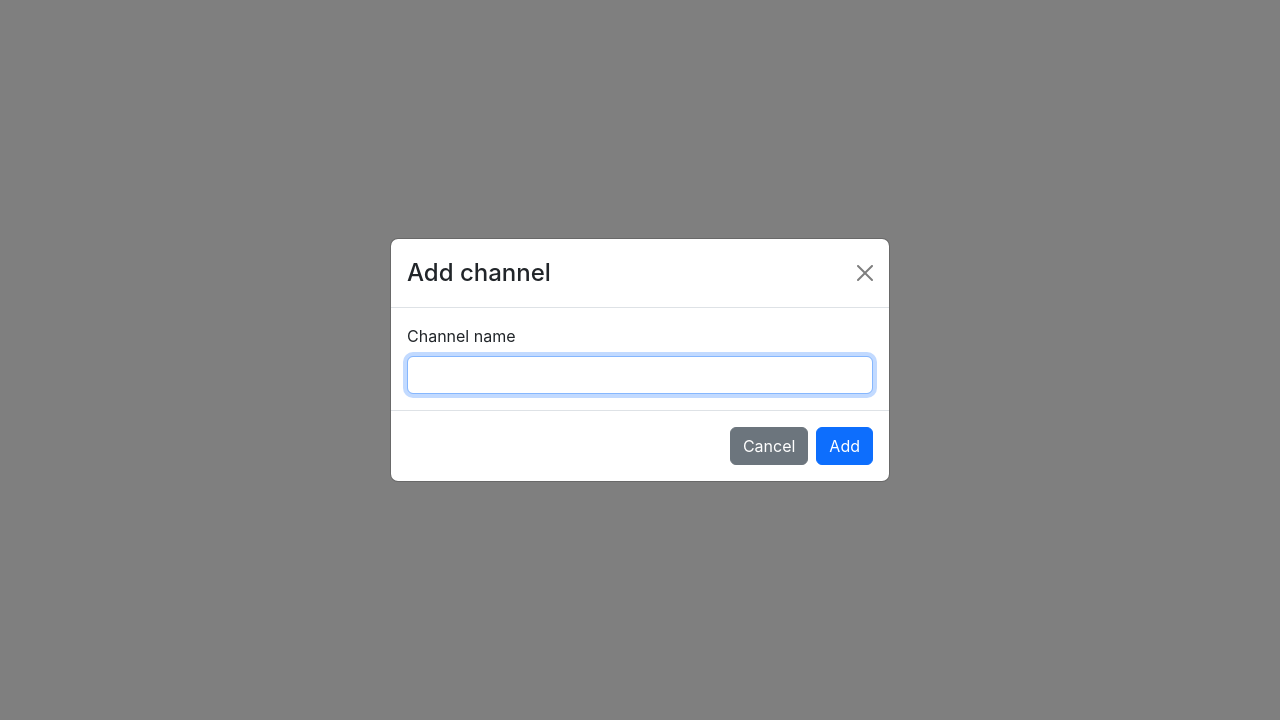
AddChannelModal › shows network error and keeps modal open when request fails
Type "dev" into the field labelled "Channel name" at (640,375), box [407,356,873,394]
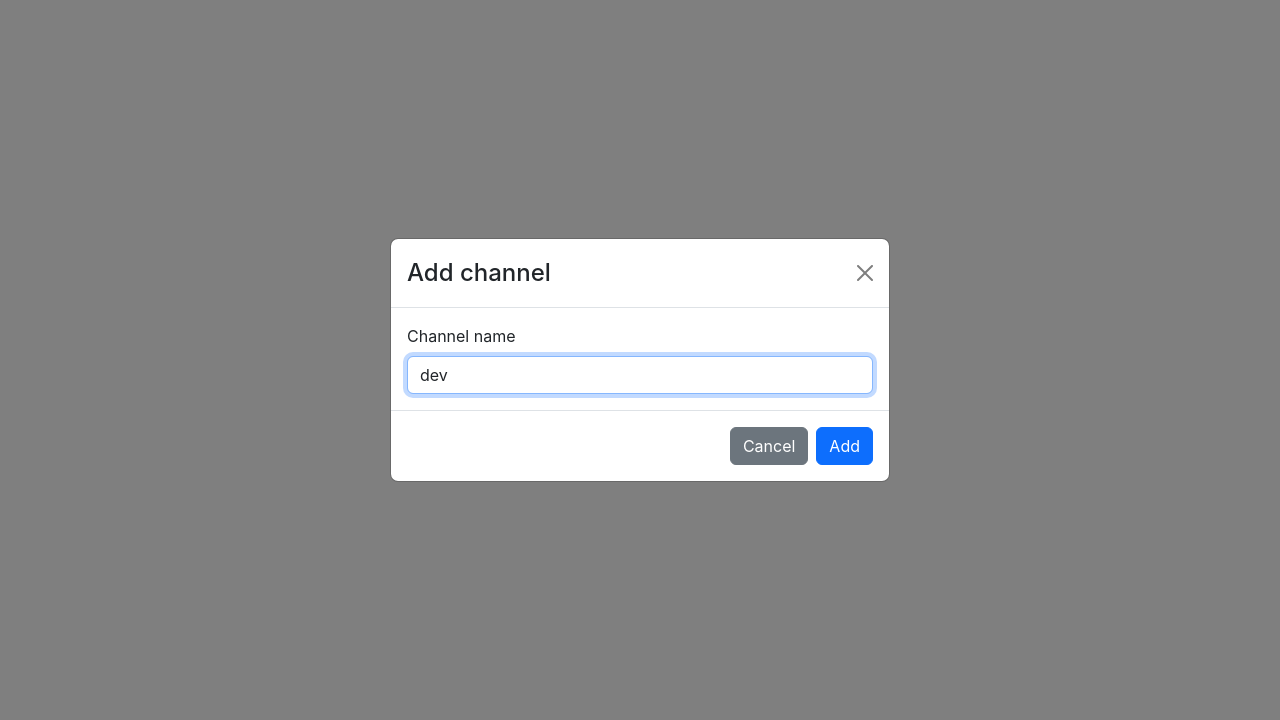
Click the button "Add" at (845,446), box [816,427,873,465]
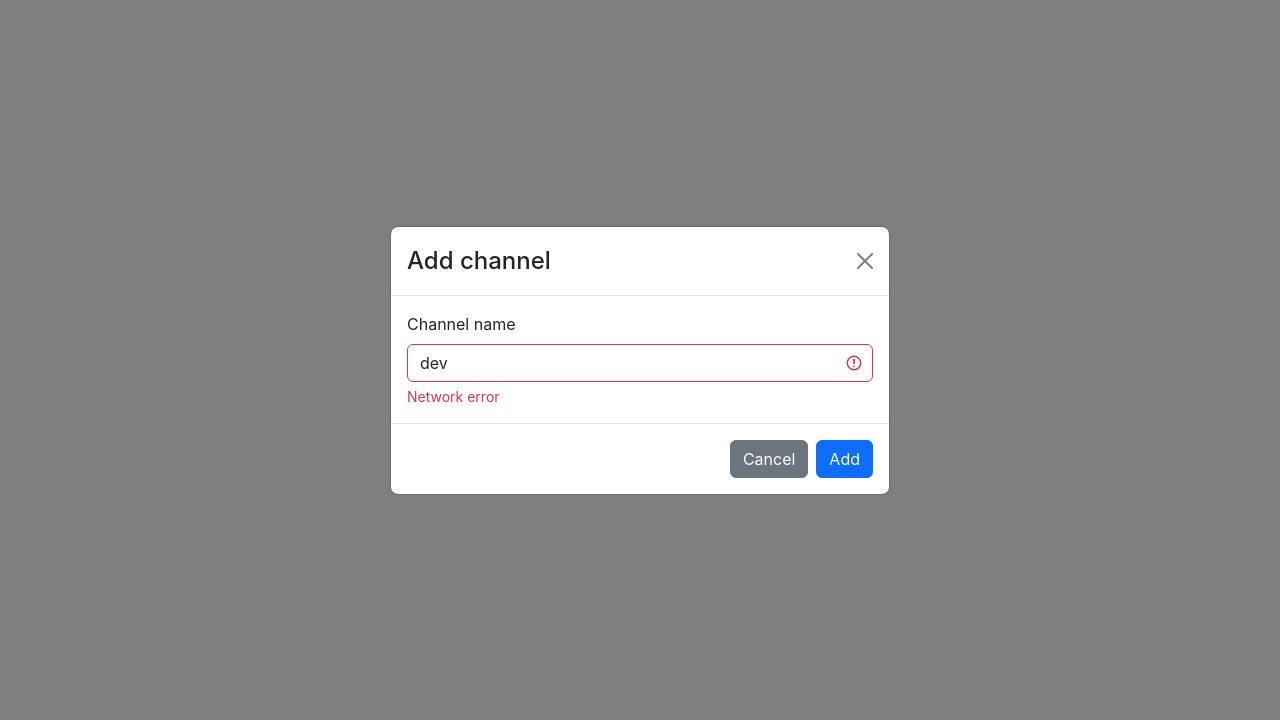
Now the text "Network error" is shown, box [407,388,500,404]
